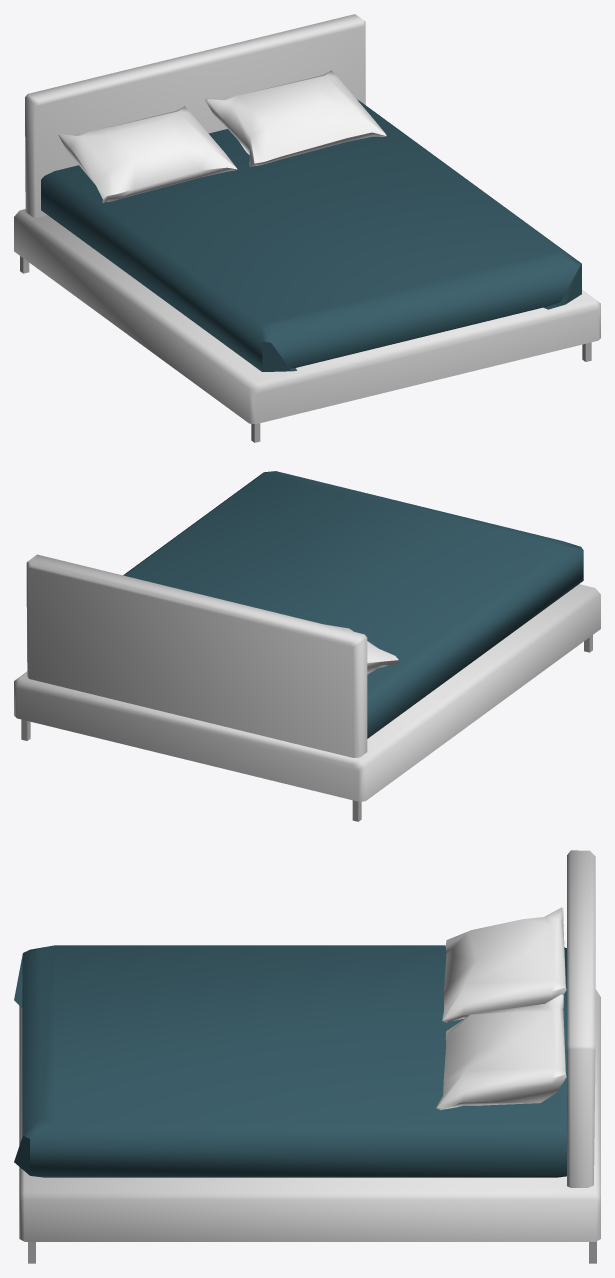
The model's file is bed_016.glb.
3 views of the same model, one above another, from view 1: azimuth 30°, elevation 25°; view 2: azimuth 150°, elevation 25°; view 3: azimuth 270°, elevation 25° (orthographic). The views are drawn at different scales.
Visible parts, largest first — view 1: bed_016; view 2: bed_016; view 3: bed_016.
Part boxes in pixels (<box>): bed_016: <box>14,14,600,442</box>; bed_016: <box>14,471,600,821</box>; bed_016: <box>14,850,600,1263</box>.
Size of the model in its own units: 1.5 by 0.7301 by 1.79.
1 material, 1 textured.
